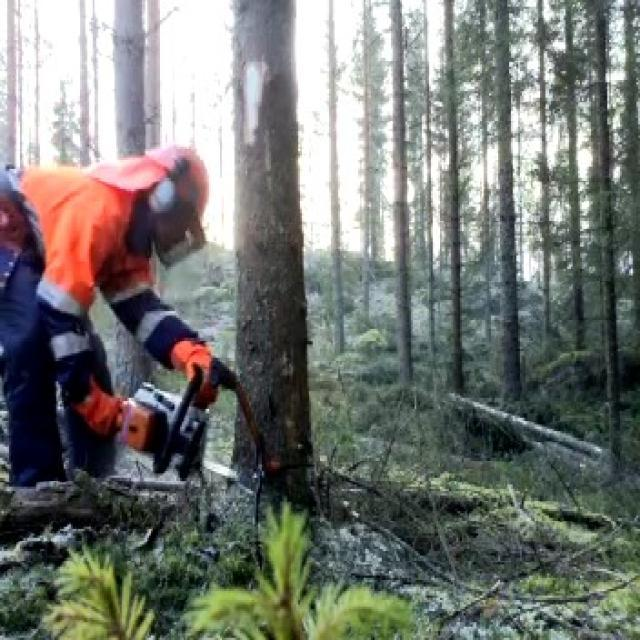Chainsaw: (86, 341, 259, 496)
